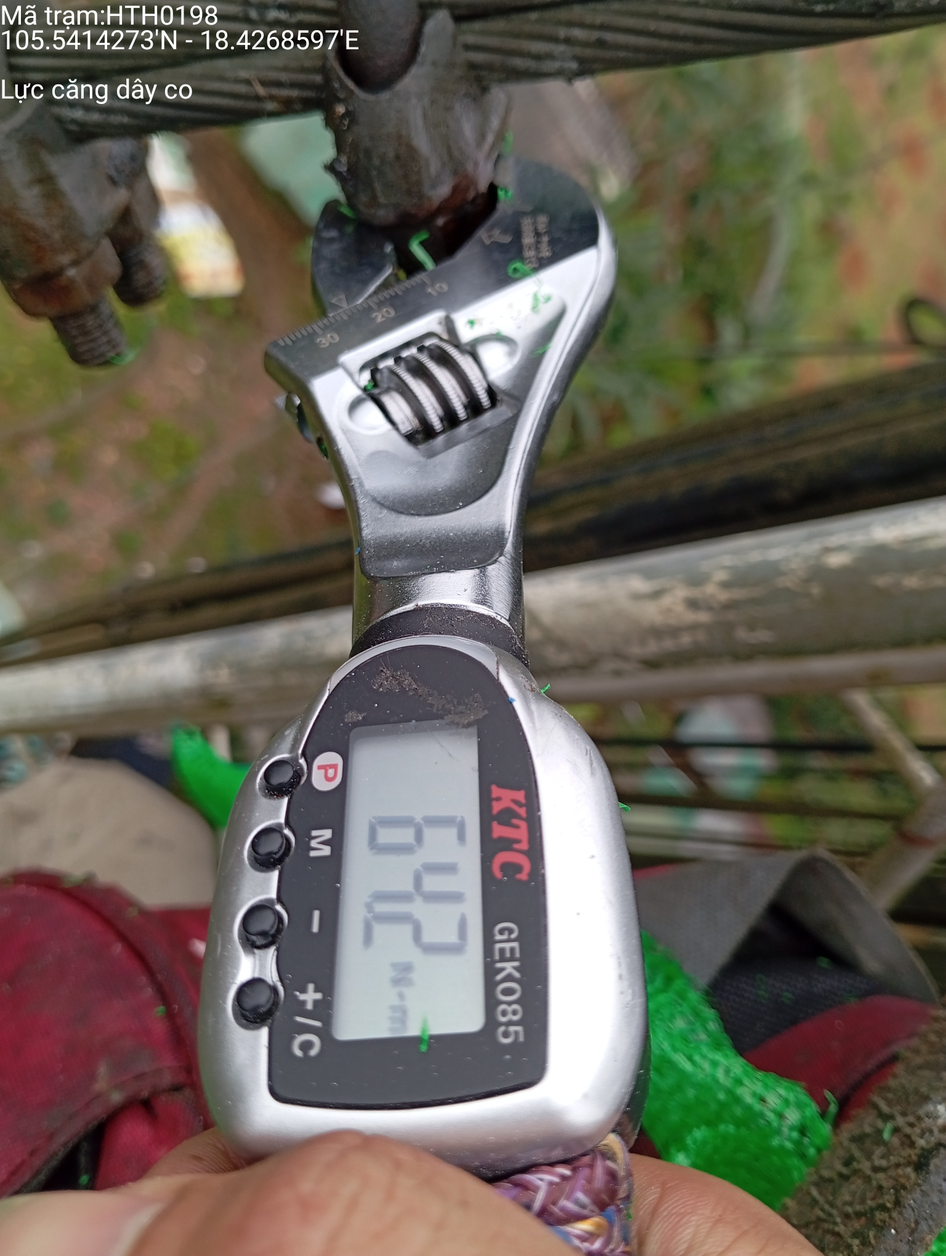lcd_display: (331, 716, 490, 1039)
torque_wrench: (197, 150, 650, 1174)
